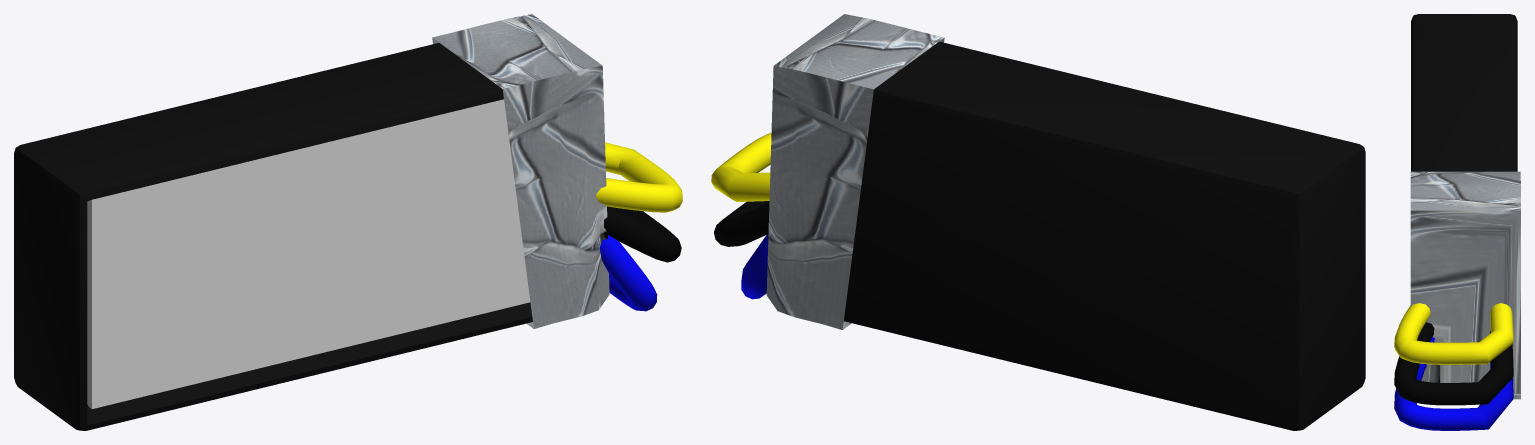
Rendered from Alarm_Timer.fbx.
3 renders of one model, left to right at view 1: azimuth 30°, elevation 25°; view 2: azimuth 150°, elevation 25°; view 3: azimuth 270°, elevation 25°, orthographic. The views are drawn at different scales.
Parts seen in each view (by area): view 1: Screen, Box001, Tape, Line007, Line006, Line005; view 2: Box001, Tape, Line007, Line006, Line005; view 3: Tape, Box001, Line007, Line006, Line005.
Part boxes in pixels (left/top/right/bottom): Screen: left=87, top=99, right=530, bottom=408; Box001: left=14, top=43, right=532, bottom=430; Tape: left=432, top=14, right=609, bottom=328; Line007: left=596, top=142, right=682, bottom=212; Line006: left=604, top=206, right=681, bottom=262; Line005: left=599, top=235, right=657, bottom=311; Box001: left=844, top=41, right=1365, bottom=430; Tape: left=766, top=14, right=944, bottom=329; Line007: left=711, top=132, right=771, bottom=201; Line006: left=714, top=201, right=769, bottom=246; Line005: left=741, top=233, right=768, bottom=299; Tape: left=1410, top=171, right=1520, bottom=399; Box001: left=1411, top=14, right=1517, bottom=171; Line007: left=1394, top=303, right=1513, bottom=364; Line006: left=1394, top=322, right=1513, bottom=405; Line005: left=1394, top=337, right=1513, bottom=430.
Bounding box in the file's own units: 296 × 122 × 68.54.
5 materials, 1 textured.
